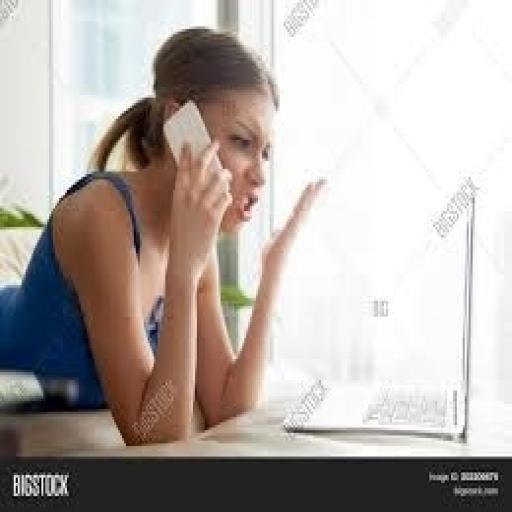calling: (0, 24, 331, 448)
